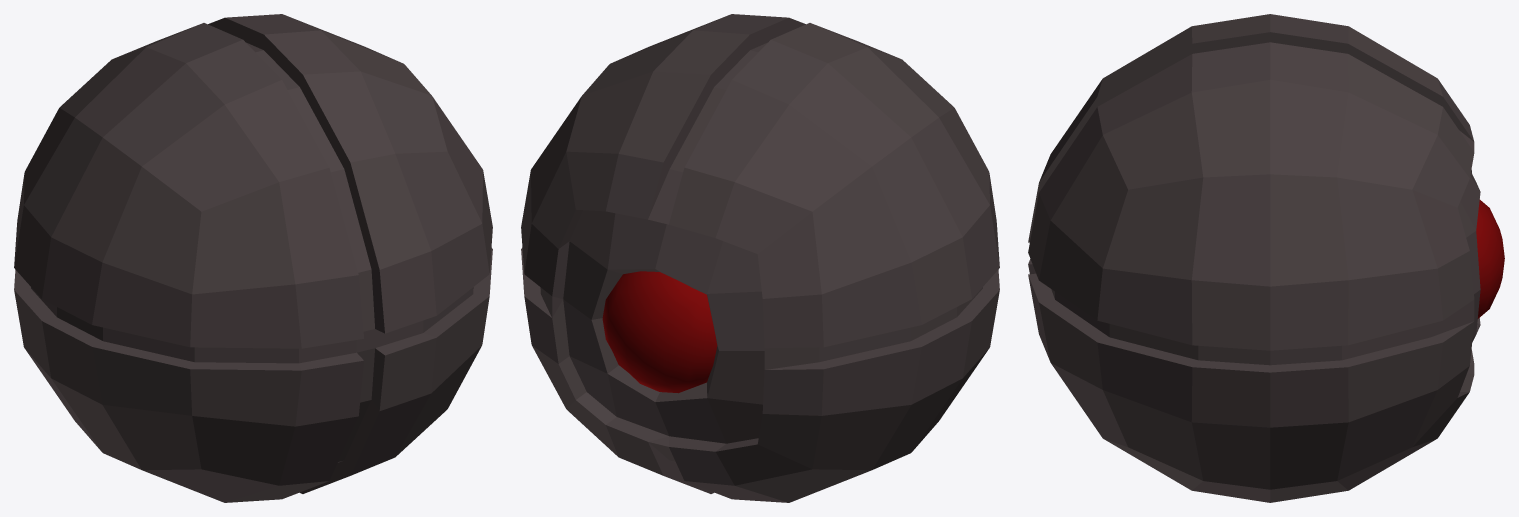
The model's file is ball.fbx.
3 renders of one model, left to right at view 1: azimuth 30°, elevation 25°; view 2: azimuth 150°, elevation 25°; view 3: azimuth 270°, elevation 25°, orthographic.
Parts seen in each view (by area): view 1: ball; view 2: ball; view 3: ball.
Boxes of the visible parts, <box> form: ball: <box>14,14,492,502</box>; ball: <box>521,14,999,502</box>; ball: <box>1028,14,1504,502</box>.
Bounding box in the file's own units: 0.1484 × 0.1484 × 0.1449.
